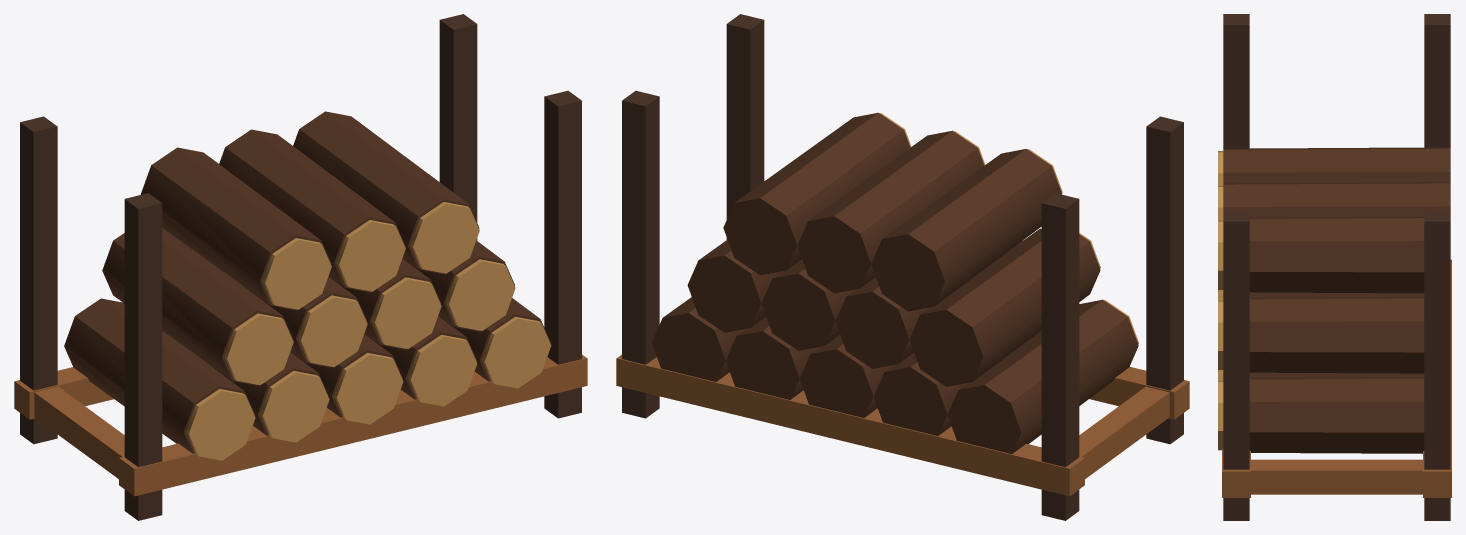
Rendered from 27_firewood_rack.fbx.
3 renders of one model, left to right at view 1: azimuth 30°, elevation 25°; view 2: azimuth 150°, elevation 25°; view 3: azimuth 270°, elevation 25°, orthographic. The views are drawn at different scales.
Visible parts, largest first — view 1: 27_firewood_rack; view 2: 27_firewood_rack; view 3: 27_firewood_rack.
Part boxes in pixels (x1=…): 27_firewood_rack: x1=14, y1=14, x2=587, y2=520; 27_firewood_rack: x1=616, y1=14, x2=1189, y2=520; 27_firewood_rack: x1=1218, y1=14, x2=1451, y2=520.
Size of the model in its own units: 1.9 by 1.25 by 0.885.
Materials: 1 (1 with a texture image).
